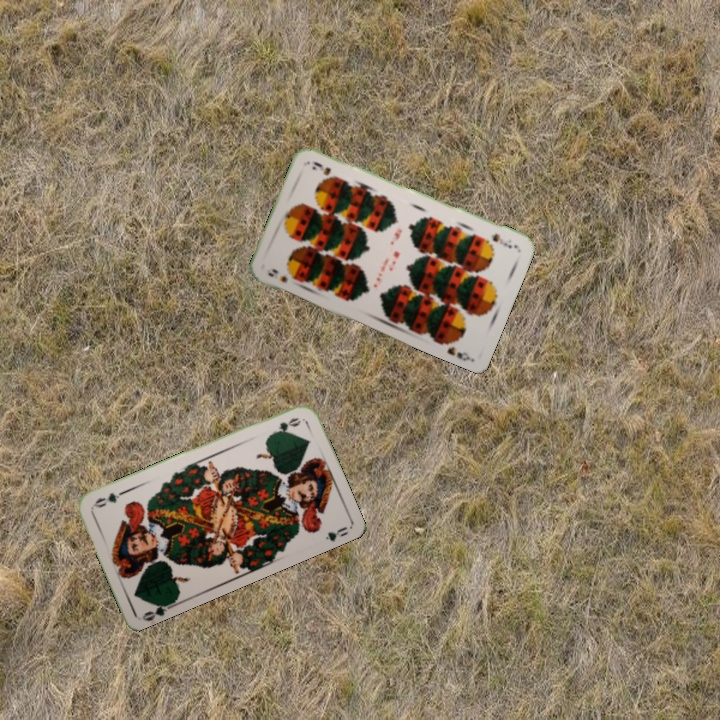GO: (138, 598, 178, 623), (266, 413, 303, 438)
S9: (488, 229, 520, 251), (264, 265, 290, 285)
